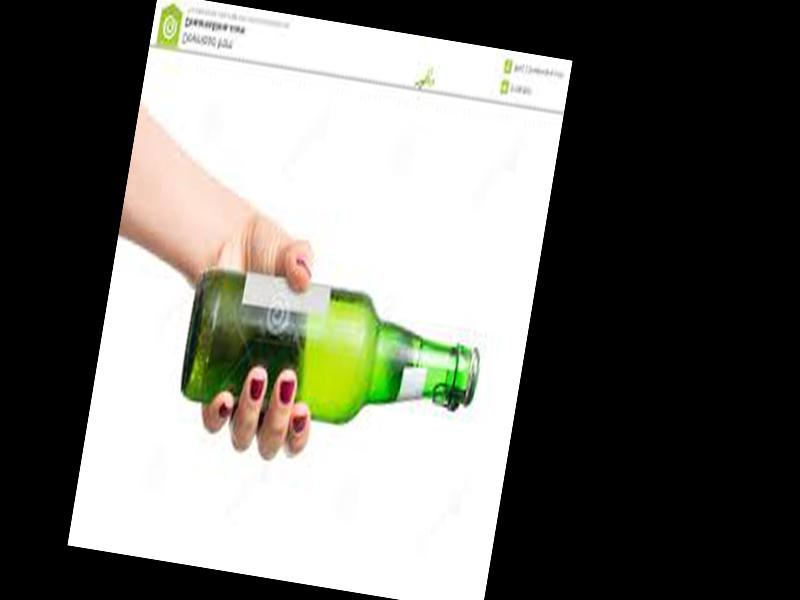Beer: (177, 260, 490, 446)
